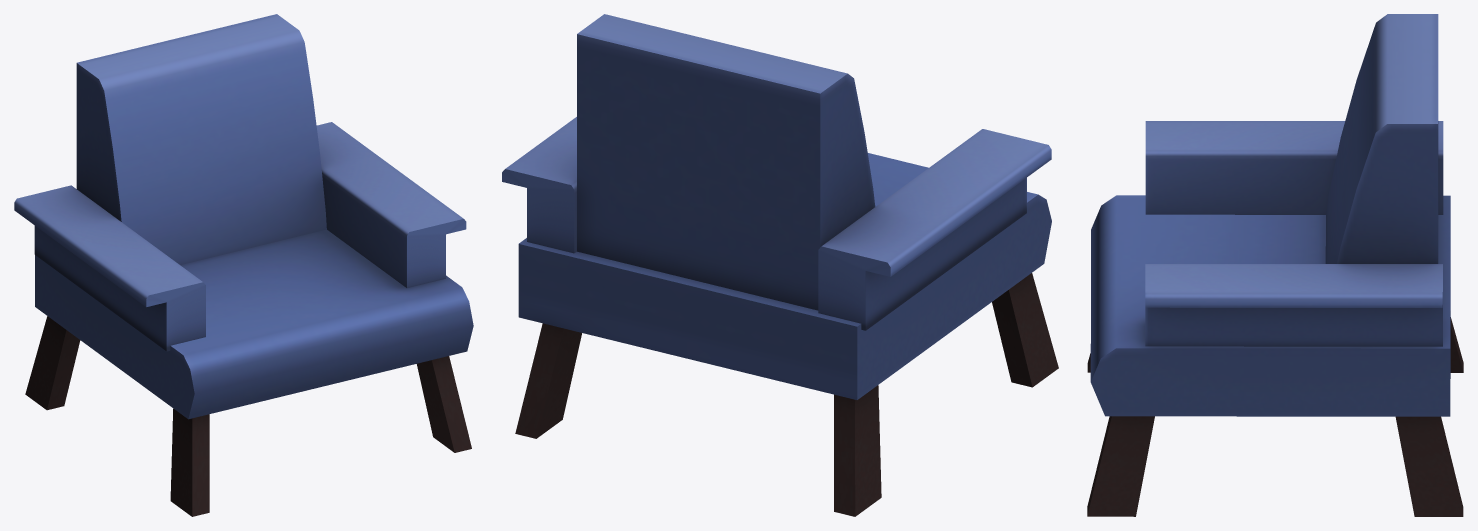
File: sofa_1.fbx
3 views of the same model, side by side, from view 1: azimuth 30°, elevation 25°; view 2: azimuth 150°, elevation 25°; view 3: azimuth 270°, elevation 25° (orthographic). The views are drawn at different scales.
Parts seen in each view (by area): view 1: sofa_1; view 2: sofa_1; view 3: sofa_1.
Boxes of the visible parts, x1,y1,x2,y2 form: sofa_1: (14, 14, 473, 516); sofa_1: (502, 14, 1058, 516); sofa_1: (1087, 14, 1463, 516).
Bounding box in the file's own units: 0.6923 × 0.6823 × 0.6271.
